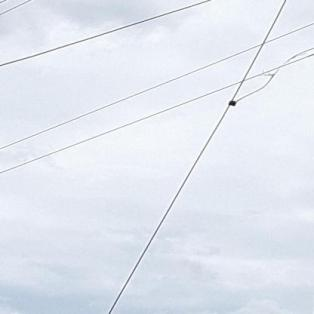Poste: (306, 0, 314, 314)
